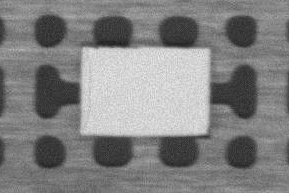DIE_CRACK: (84, 47, 91, 134)
